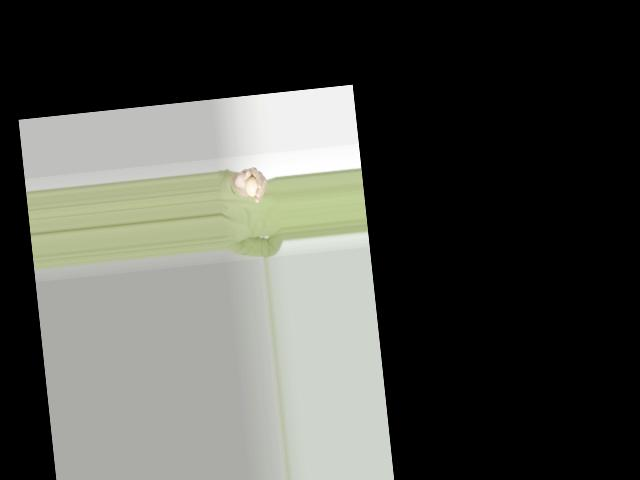egg: (245, 176, 259, 198)
